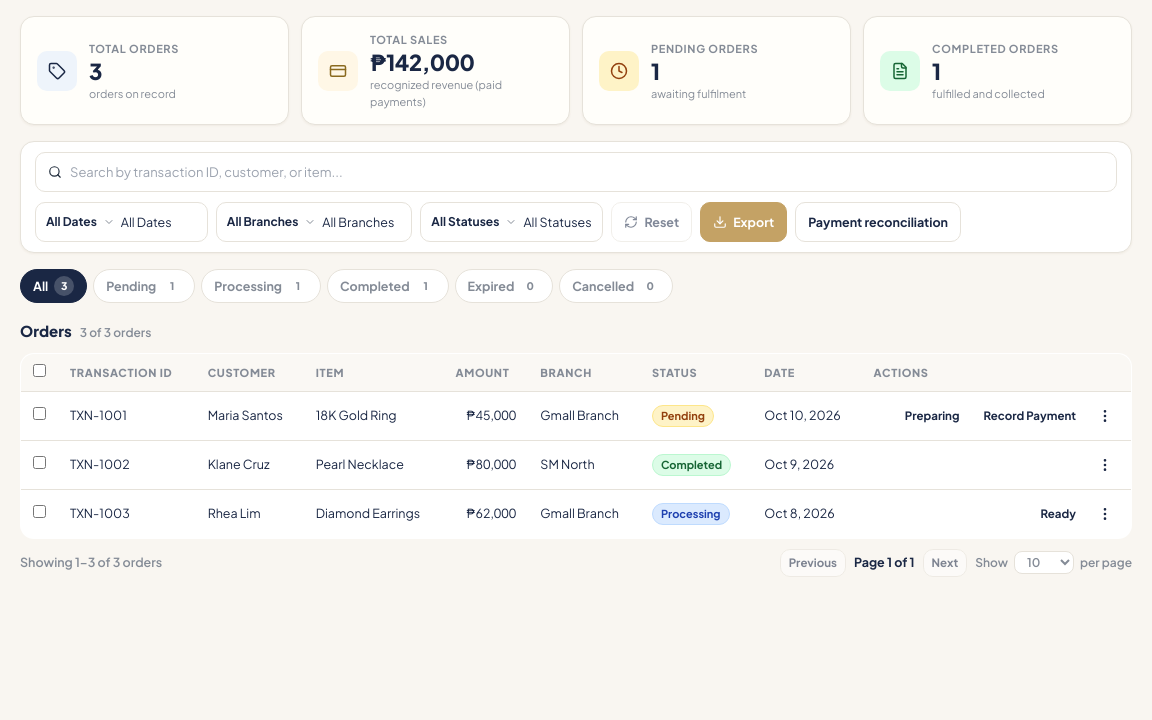
Test: Admin Orders page › reset clears search and filters
Expected: the text "TXN-1001" is shown, [58,392,196,440]
Type "TXN-1002" into the field with placeholder "Search by transaction ID, customer, or item..." at (587, 172), box [70,162,1104,182]
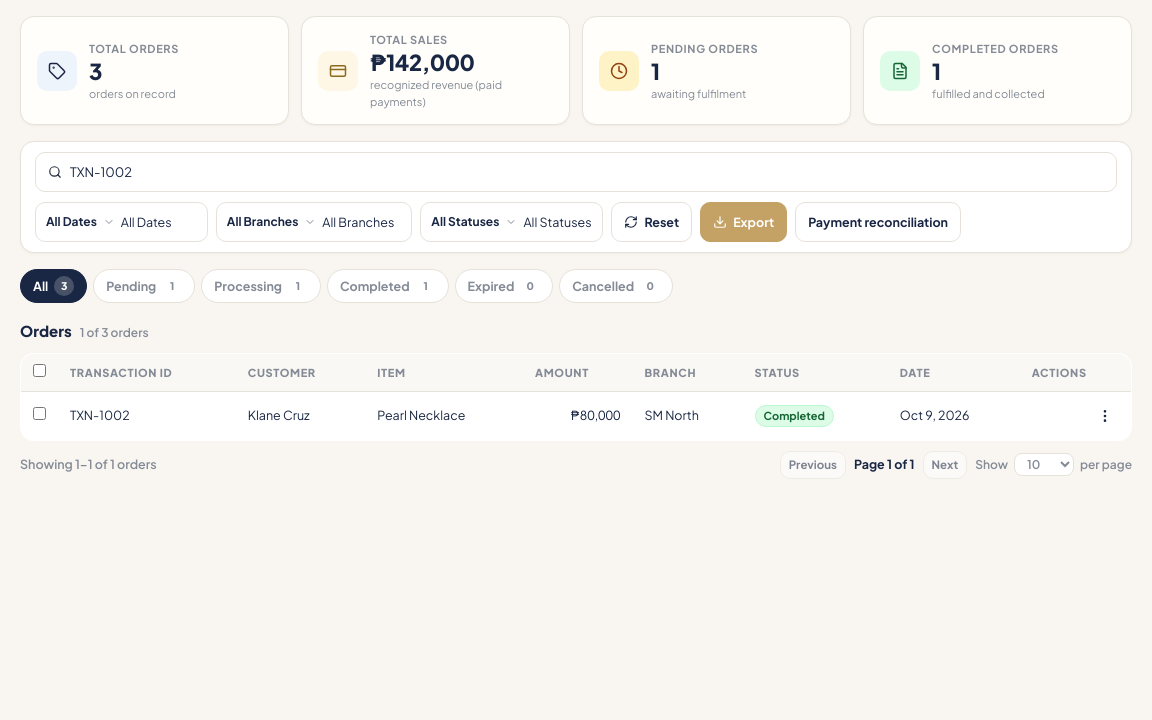
Expected: the button "TXN-1001" is gone
Click the button "Reset" at (652, 222), box [611,202,692,242]
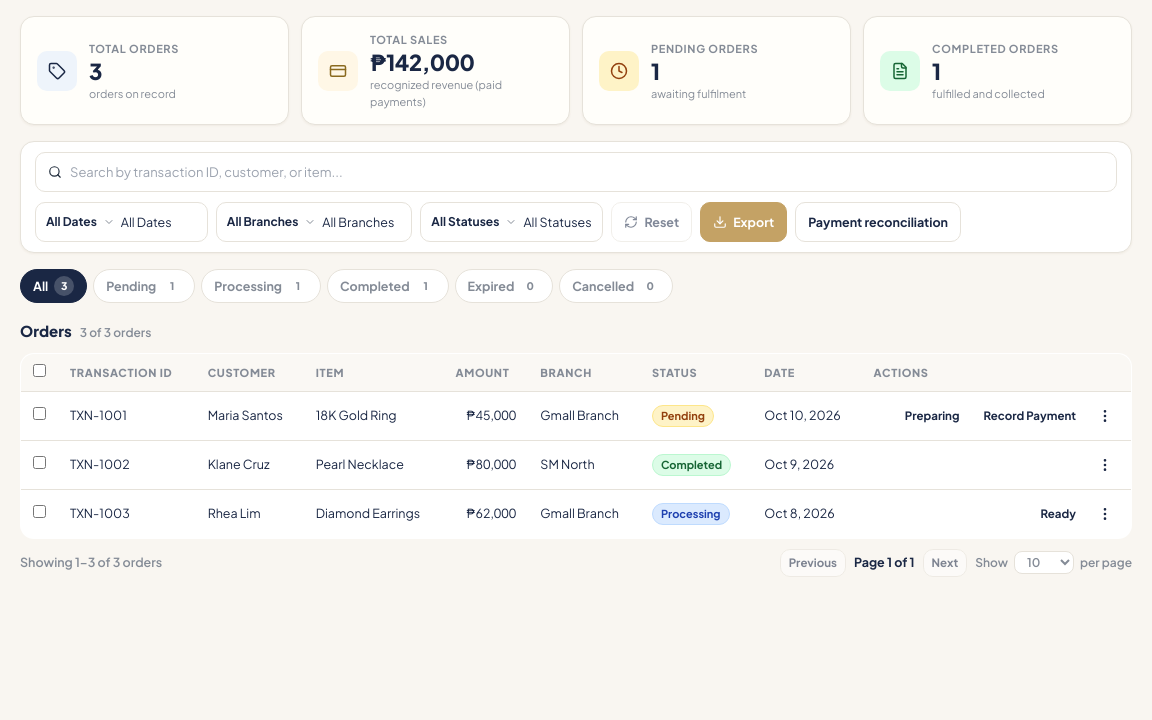
Expected: the text "TXN-1002" is shown, [58,440,196,490]
Expected: the text "TXN-1001" is shown, [58,392,196,440]
Expected: the text "TXN-1003" is shown, [58,490,196,538]
